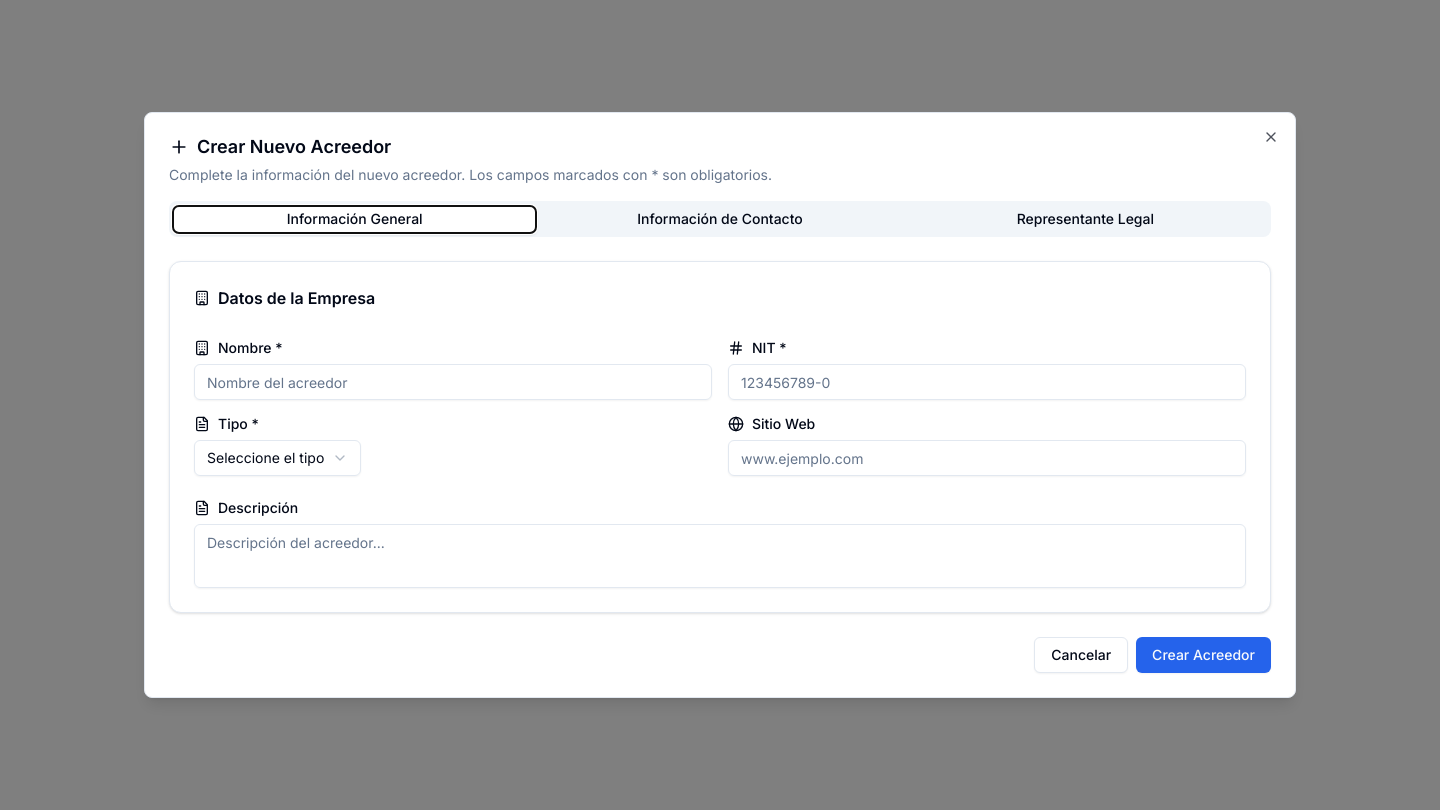
Test: Crear Nuevo Acreedor (creditors/create-creditor-dialog) › al guardar con el nombre vacío SÍ muestra el error
Click the button "Crear Acreedor" at (1204, 655), box [1136,637,1271,673]
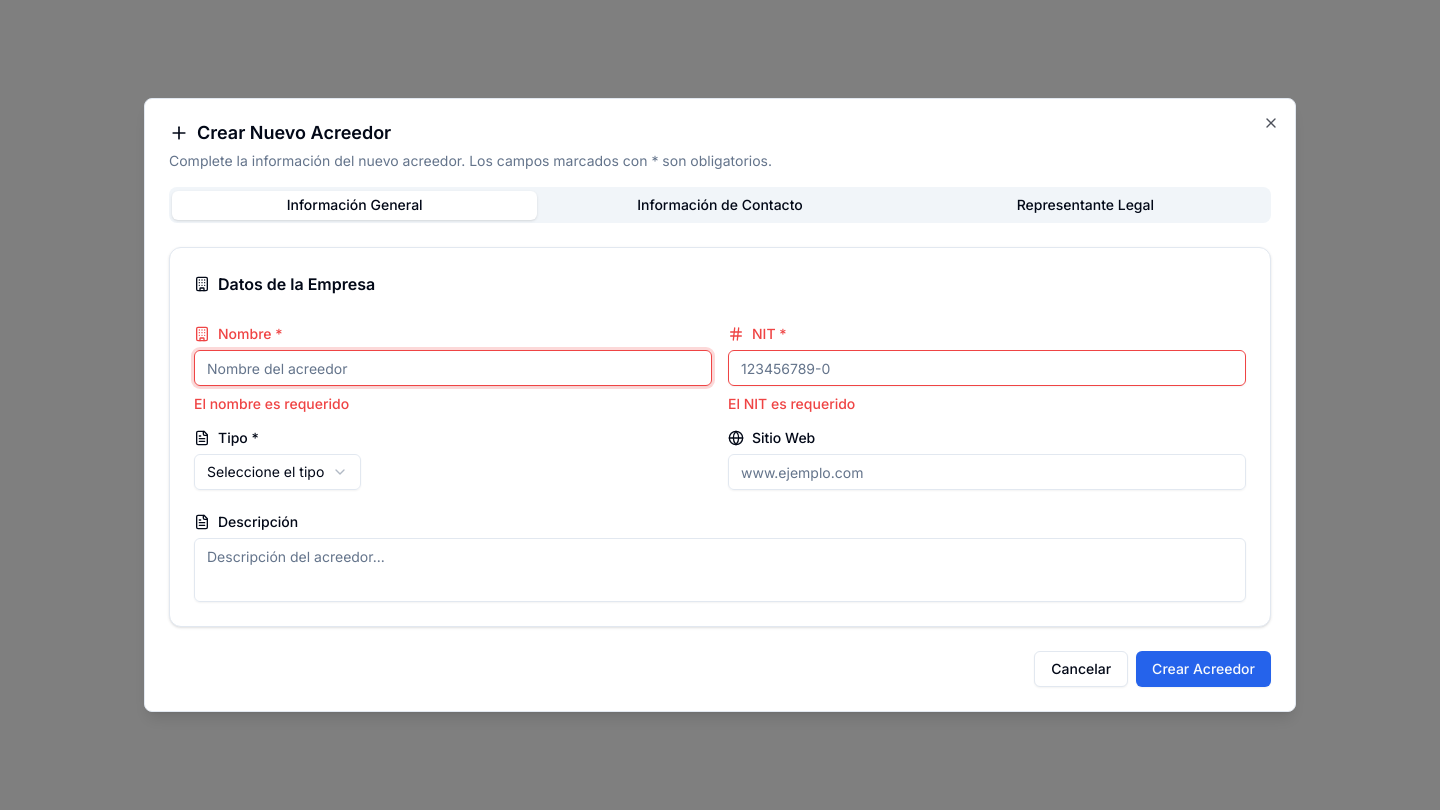
Expected: the text "El nombre es requerido" is shown, [194,395,349,412]
